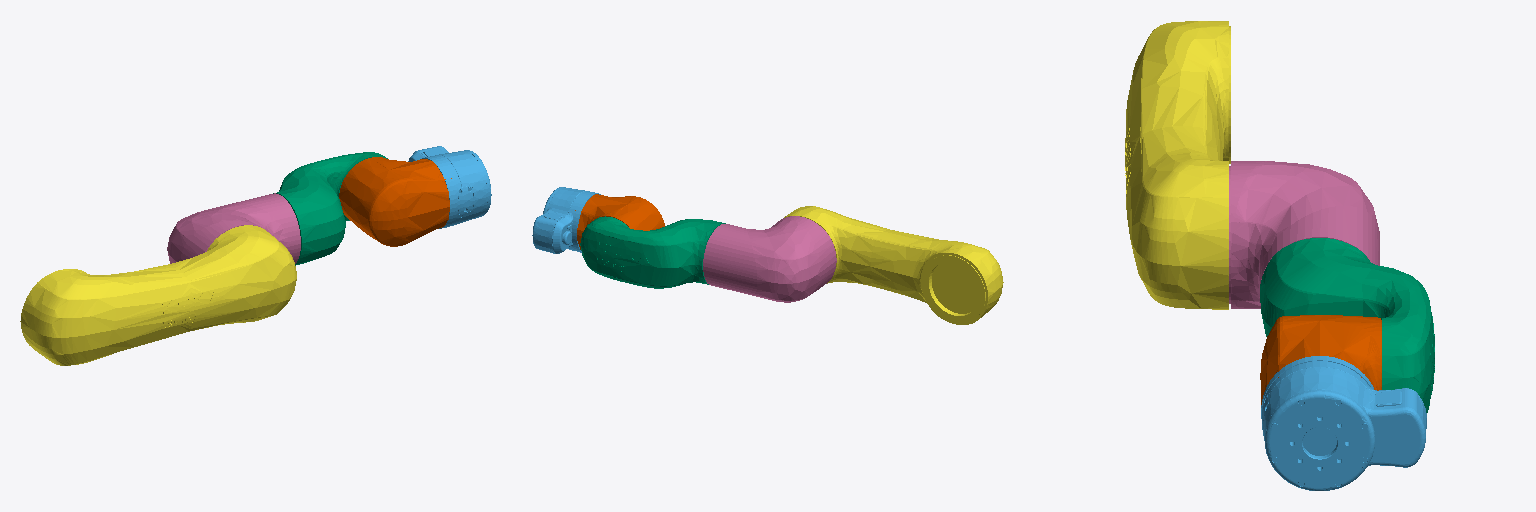
URDF robot description (LBR3R760iisy):
<?xml version="1.0" encoding="UTF-8"?>
<robot name="LBR3R760iisy">
  <ros2_control name="iisy_hardware" type="system">
    <hardware>
      <plugin>kuka_rox::KukaRoXHardwareInterface</plugin>
    </hardware>
    <!-- define joints and command/state interfaces for each joint -->
    <joint name="joint_a1">
      <command_interface name="position">
        <param name="min">-1</param>
        <param name="max"> 1</param>
      </command_interface>
      <state_interface name="position"><param name="initial_value">0</param></state_interface>
    </joint>
    <joint name="joint_a2">
      <command_interface name="position">
        <param name="min">-1</param>
        <param name="max"> 1</param>
      </command_interface>
      <state_interface name="position"><param name="initial_value">0</param></state_interface>
    </joint>
    <joint name="joint_a3">
      <command_interface name="position">
        <param name="min">-1</param>
        <param name="max"> 1</param>
      </command_interface>
      <state_interface name="position"><param name="initial_value">0</param></state_interface>
    </joint>
    <joint name="joint_a4">
      <command_interface name="position">
        <param name="min">-1</param>
        <param name="max"> 1</param>
      </command_interface>
      <state_interface name="position"><param name="initial_value">0</param></state_interface>
    </joint>
    <joint name="joint_a5">
      <command_interface name="position">
        <param name="min">-1</param>
        <param name="max"> 1</param>
      </command_interface>
      <state_interface name="position"><param name="initial_value">0</param></state_interface>
    </joint>
    <joint name="joint_a6">
      <command_interface name="position">
        <param name="min">-1</param>
        <param name="max"> 1</param>
      </command_interface>
      <state_interface name="position"><param name="initial_value">0</param></state_interface>
    </joint>
  </ros2_control>
  <link name="base_link"/>
  <link name="LBR3R760_iisy_axis6">
    <collision>
      <geometry>
        <mesh filename="package://kuka_iisy_support/meshes/link6.stl"/>
      </geometry>
      <origin rpy="-0.0 0.0 -0.0" xyz="0.0 0.0 0.0"/>
    </collision>
    <inertial>
      <inertia ixx="0.0014673917002994" ixy="0.0" ixz="0.0" iyy="0.00112131520678352" iyz="0.0" izz="0.00158160486913488"/>
      <mass value="8.43E-1"/>
      <origin rpy="-0.0 0.0 -0.0" xyz="0.0 0.0 0.0"/>
    </inertial>
    <visual>
      <geometry>
        <mesh filename="package://kuka_iisy_support/meshes/link6.stl"/>
      </geometry>
      <origin rpy="-0.0 0.0 -0.0" xyz="0.0 0.0 0.0"/>
    </visual>
  </link>
  <link name="LBR3R760_iisy_axis4">
    <collision>
      <geometry>
        <mesh filename="package://kuka_iisy_support/meshes/link4.stl"/>
      </geometry>
      <origin rpy="-0.0 0.0 -0.0" xyz="0.0 0.0 0.0"/>
    </collision>
    <inertial>
      <inertia ixx="0.00244684891934666" ixy="0.0" ixz="0.0" iyy="0.00929300990970133" iyz="0.0" izz="0.00957902612033654"/>
      <mass value="2.0138E0"/>
      <origin rpy="-0.0 0.0 -0.0" xyz="0.0 0.0 0.0"/>
    </inertial>
    <visual>
      <geometry>
        <mesh filename="package://kuka_iisy_support/meshes/link4.stl"/>
      </geometry>
      <origin rpy="-0.0 0.0 -0.0" xyz="0.0 0.0 0.0"/>
    </visual>
  </link>
  <link name="LBR3R760_iisy_axis2">
    <collision>
      <geometry>
        <mesh filename="package://kuka_iisy_support/meshes/link2.stl"/>
      </geometry>
      <origin rpy="-0.0 0.0 -0.0" xyz="0.0 0.0 0.0"/>
    </collision>
    <inertial>
      <inertia ixx="0.0521692170047944" ixy="0.0" ixz="0.0" iyy="0.0042331111850977" iyz="0.0" izz="0.0534425693052013"/>
      <mass value="3.212E0"/>
      <origin rpy="-0.0 0.0 -0.0" xyz="0.0 0.0 0.0"/>
    </inertial>
    <visual>
      <geometry>
        <mesh filename="package://kuka_iisy_support/meshes/link2.stl"/>
      </geometry>
      <origin rpy="-0.0 0.0 -0.0" xyz="0.0 0.0 0.0"/>
    </visual>
  </link>
  <link name="LBR3R760_iisy_fixedbase">
    <collision>
      <geometry>
        <mesh filename="package://kuka_iisy_support/meshes/robotbase.stl"/>
      </geometry>
      <origin rpy="-0.0 0.0 -0.0" xyz="0.0 0.0 0.0"/>
    </collision>
    <inertial>
      <inertia ixx="5.0E-4" ixy="0.0" ixz="0.0" iyy="5.0E-4" iyz="0.0" izz="5.0E-4"/>
      <mass value="3.6832E0"/>
      <origin rpy="-0.0 0.0 -0.0" xyz="0.0 0.0 0.0"/>
    </inertial>
    <visual>
      <geometry>
        <mesh filename="package://kuka_iisy_support/meshes/robotbase.stl"/>
      </geometry>
      <origin rpy="-0.0 0.0 -0.0" xyz="0.0 0.0 0.0"/>
    </visual>
  </link>
  <link name="LBR3R760_iisy_axis5">
    <collision>
      <geometry>
        <mesh filename="package://kuka_iisy_support/meshes/link5.stl"/>
      </geometry>
      <origin rpy="-0.0 0.0 -0.0" xyz="0.0 0.0 0.0"/>
    </collision>
    <inertial>
      <inertia ixx="0.00236252846105637" ixy="0.0" ixz="0.0" iyy="0.00141854396142661" iyz="0.0" izz="0.0025813096143987"/>
      <mass value="1.4418E0"/>
      <origin rpy="-0.0 0.0 -0.0" xyz="0.0 0.0 0.0"/>
    </inertial>
    <visual>
      <geometry>
        <mesh filename="package://kuka_iisy_support/meshes/link5.stl"/>
      </geometry>
      <origin rpy="-0.0 0.0 -0.0" xyz="0.0 0.0 0.0"/>
    </visual>
  </link>
  <link name="LBR3R760_iisy_axis3">
    <collision>
      <geometry>
        <mesh filename="package://kuka_iisy_support/meshes/link3.stl"/>
      </geometry>
      <origin rpy="-0.0 0.0 -0.0" xyz="0.0 0.0 0.0"/>
    </collision>
    <inertial>
      <inertia ixx="0.0113804888378926" ixy="0.0" ixz="0.0" iyy="0.00566536942404497" iyz="0.0" izz="0.0133950588482047"/>
      <mass value="3.471E0"/>
      <origin rpy="-0.0 0.0 -0.0" xyz="0.0 0.0 0.0"/>
    </inertial>
    <visual>
      <geometry>
        <mesh filename="package://kuka_iisy_support/meshes/link3.stl"/>
      </geometry>
      <origin rpy="-0.0 0.0 -0.0" xyz="0.0 0.0 0.0"/>
    </visual>
  </link>
  <link name="LBR3R760_iisy_axis1">
    <collision>
      <geometry>
        <mesh filename="package://kuka_iisy_support/meshes/link1.stl"/>
      </geometry>
      <origin rpy="-0.0 0.0 -0.0" xyz="0.0 0.0 0.0"/>
    </collision>
    <inertial>
      <inertia ixx="0.0113804888378926" ixy="0.0" ixz="0.0" iyy="0.00566536942404497" iyz="0.0" izz="0.0133950588482047"/>
      <mass value="3.471E0"/>
      <origin rpy="-0.0 0.0 -0.0" xyz="0.0 0.0 0.0"/>
    </inertial>
    <visual>
      <geometry>
        <mesh filename="package://kuka_iisy_support/meshes/link1.stl"/>
      </geometry>
      <origin rpy="-0.0 0.0 -0.0" xyz="0.0 0.0 0.0"/>
    </visual>
  </link>
  <joint name="base_joint" type="fixed">
    <parent link="base_link" />
    <child link="LBR3R760_iisy_fixedbase" />
  </joint>
  <joint name="joint_a5" type="revolute">
    <axis xyz="0.0 1.0 0.0"/>
    <child link="LBR3R760_iisy_axis5"/>
    <limit effort="5.0E0" lower="-1.919862177E0" upper="1.919862177E0" velocity="2.0E0"/>
    <origin rpy="-0.0 0.0 -0.0" xyz="0.1708 0.0382 0.0"/>
    <parent link="LBR3R760_iisy_axis4"/>
  </joint>
  <joint name="joint_a2" type="revolute">
    <axis xyz="0.0 1.0 0.0"/>
    <child link="LBR3R760_iisy_axis2"/>
    <limit effort="5.0E0" lower="-4.0142572796E0" upper="8.726646E-1" velocity="2.0E0"/>
    <origin rpy="-0.0 1.570796 -0.0" xyz="0.0 -0.0829 0.0886"/>
    <parent link="LBR3R760_iisy_axis1"/>
  </joint>
  <joint name="joint_a3" type="revolute">
    <axis xyz="0.0 1.0 0.0"/>
    <child link="LBR3R760_iisy_axis3"/>
    <limit effort="5.0E0" lower="-2.61799387799E0" upper="2.61799387799E0" velocity="2.0E0"/>
    <origin rpy="-0.0 -1.570796 -0.0" xyz="0.0 0.0 0.3"/>
    <parent link="LBR3R760_iisy_axis2"/>
  </joint>
  <joint name="joint_a6" type="revolute">
    <axis xyz="1.0 0.0 0.0"/>
    <child link="LBR3R760_iisy_axis6"/>
    <limit effort="5.0E0" lower="-3.839724354E0" upper="3.839724354E0" velocity="2.0E0"/>
    <origin rpy="-0.0 0.0 -0.0" xyz="0.0682 -0.0382 0.0"/>
    <parent link="LBR3R760_iisy_axis5"/>
  </joint>
  <joint name="joint_a4" type="revolute">
    <axis xyz="1.0 0.0 0.0"/>
    <child link="LBR3R760_iisy_axis4"/>
    <limit effort="5.0E0" lower="-3.05432619E0" upper="3.05432619E0" velocity="2.0E0"/>
    <origin rpy="-0.0 0.0 -0.0" xyz="0.1292 0.0829 0.0"/>
    <parent link="LBR3R760_iisy_axis3"/>
  </joint>
  <joint name="joint_a1" type="revolute">
    <axis xyz="0.0 0.0 1.0"/>
    <child link="LBR3R760_iisy_axis1"/>
    <limit effort="5.0E0" lower="-3.05432619E0" upper="3.05432619E0" velocity="2.0E0"/>
    <origin rpy="-0.0 0.0 -0.0" xyz="0.0 0.0 0.1264"/>
    <parent link="LBR3R760_iisy_fixedbase"/>
  </joint>
</robot>

--- Facts derived from the render (not from the file) ---
3 views of the same robot in one strip: view 1: azimuth 30°, elevation 25°; view 2: azimuth 150°, elevation 25°; view 3: azimuth 270°, elevation 25° (orthographic).
Robot: LBR3R760iisy — 8 links, 7 joints (6 revolute, 1 fixed); root link base_link; default pose: all joints at 0.
Visible links, largest first — view 1: LBR3R760_iisy_axis2, LBR3R760_iisy_axis5, LBR3R760_iisy_axis4, LBR3R760_iisy_axis3, LBR3R760_iisy_axis6; view 2: LBR3R760_iisy_axis2, LBR3R760_iisy_axis3, LBR3R760_iisy_axis4, LBR3R760_iisy_axis6, LBR3R760_iisy_axis5; view 3: LBR3R760_iisy_axis2, LBR3R760_iisy_axis6, LBR3R760_iisy_axis4, LBR3R760_iisy_axis3, LBR3R760_iisy_axis5.
Boxes of the visible links, x1,y1,x2,y2 form: LBR3R760_iisy_axis2: (20,225,296,365); LBR3R760_iisy_axis5: (339,157,451,246); LBR3R760_iisy_axis4: (273,152,387,265); LBR3R760_iisy_axis3: (167,193,300,263); LBR3R760_iisy_axis6: (408,146,491,228); LBR3R760_iisy_axis2: (784,206,1003,324); LBR3R760_iisy_axis3: (703,216,836,302); LBR3R760_iisy_axis4: (580,216,725,288); LBR3R760_iisy_axis6: (532,187,600,253); LBR3R760_iisy_axis5: (575,194,664,249); LBR3R760_iisy_axis2: (1125,21,1230,309); LBR3R760_iisy_axis6: (1261,356,1426,490); LBR3R760_iisy_axis4: (1260,238,1434,412); LBR3R760_iisy_axis3: (1229,161,1379,308); LBR3R760_iisy_axis5: (1260,315,1381,404).
Bounding box of the posed robot: 0.8132 × 0.2811 × 0.1359 m (x, y, z).
Meshes: 7 distinct files referenced, 5 mesh visuals loaded (5 binary STL); not drawn: 2 (reference not matched to a file when rendering).
